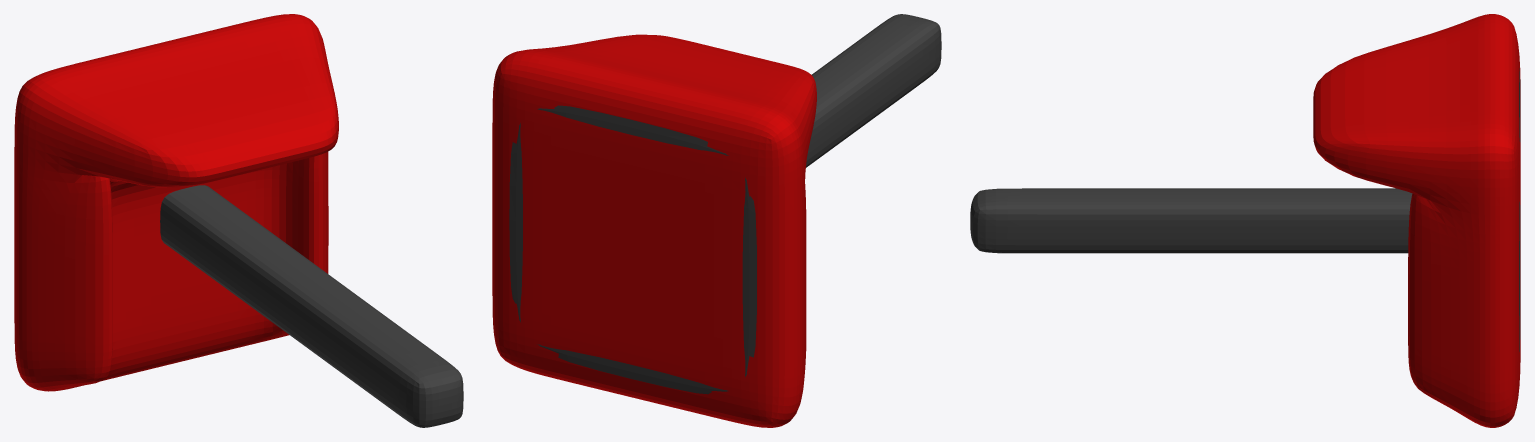
Rendered from BarStool.fbx.
3 renders of one model, left to right at view 1: azimuth 30°, elevation 25°; view 2: azimuth 150°, elevation 25°; view 3: azimuth 270°, elevation 25°, orthographic. The views are drawn at different scales.
Visible parts, largest first — view 1: Plane.002, Plane.001; view 2: Plane.002, Plane.001; view 3: Plane.002, Plane.001.
Part boxes in pixels (x1,y1,x2,y2): Plane.002: (14, 14, 338, 391); Plane.001: (160, 185, 463, 427); Plane.002: (492, 34, 816, 427); Plane.001: (509, 14, 941, 394); Plane.002: (1313, 14, 1520, 427); Plane.001: (970, 68, 1520, 351).
Bounding box in the file's own units: 2.09 × 2.09 × 3.48.
